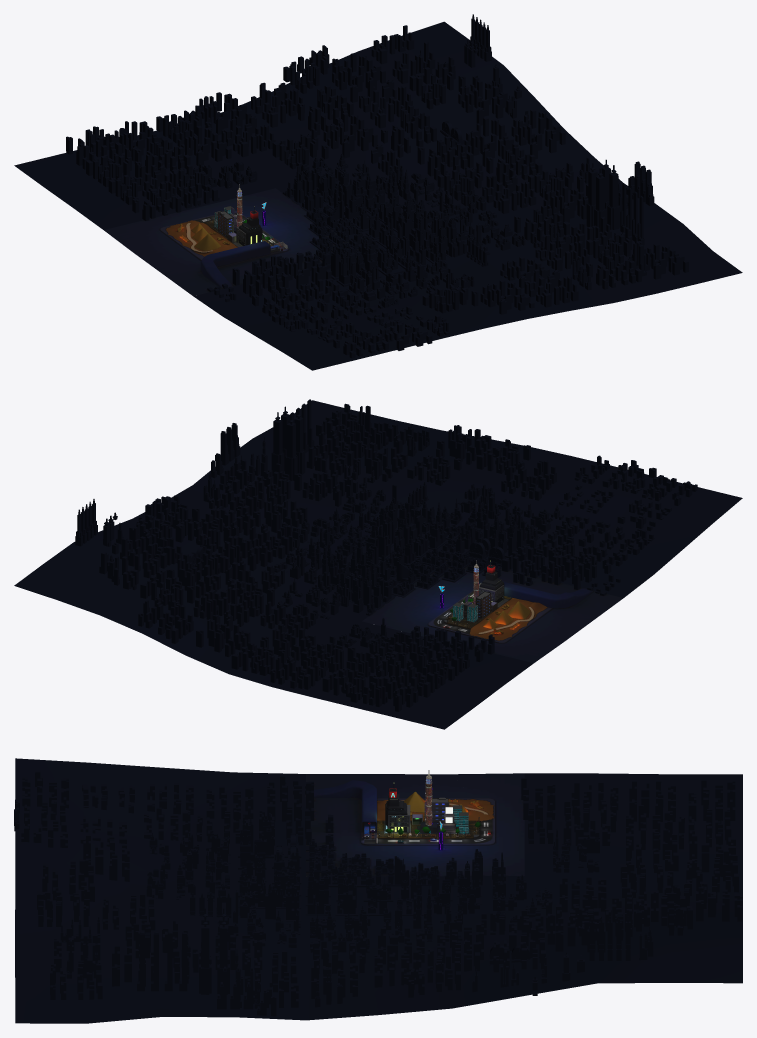
File: worlds.glb
3 renders of one model, top to bottom at view 1: azimuth 30°, elevation 25°; view 2: azimuth 150°, elevation 25°; view 3: azimuth 270°, elevation 25°, orthographic. The views are drawn at different scales.
Visible parts, largest first — view 1: scene; view 2: scene; view 3: scene.
Boxes of the visible parts, left/top/right/bottom form: scene: left=14, top=14, right=742, bottom=370; scene: left=14, top=399, right=742, bottom=729; scene: left=14, top=758, right=742, bottom=1023.
Size of the model in its own units: 265 by 55.59 by 319.
Materials: 83 (61 with a texture image).
